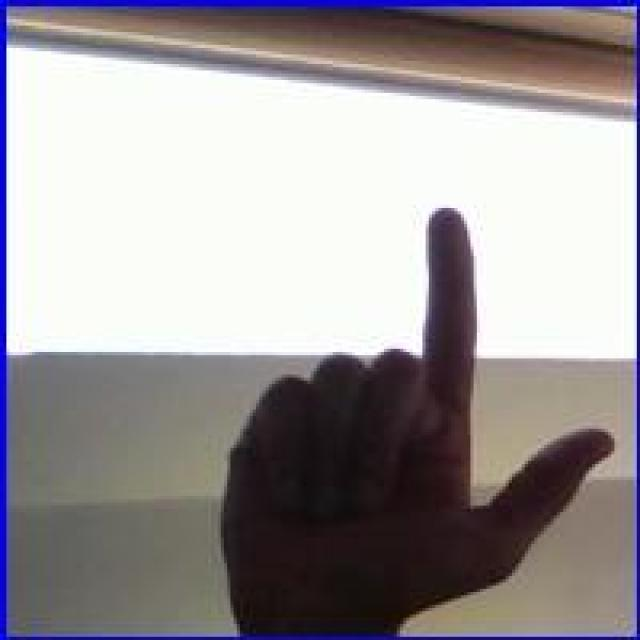L: (202, 198, 620, 628)
